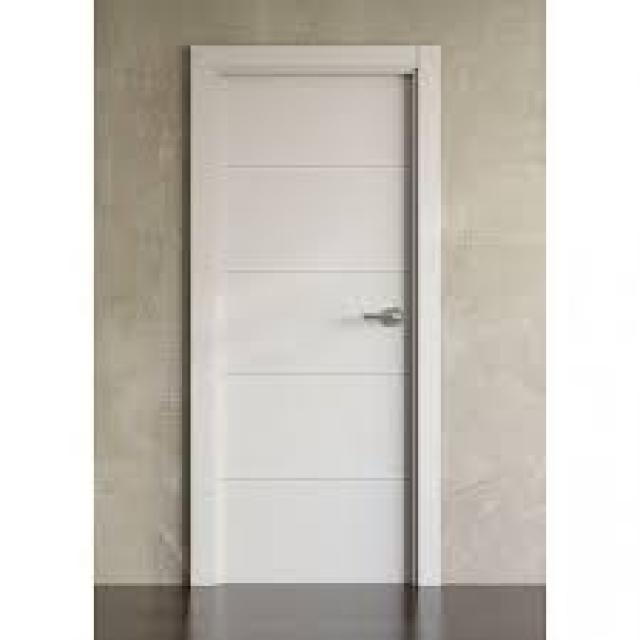door: (188, 44, 421, 588)
